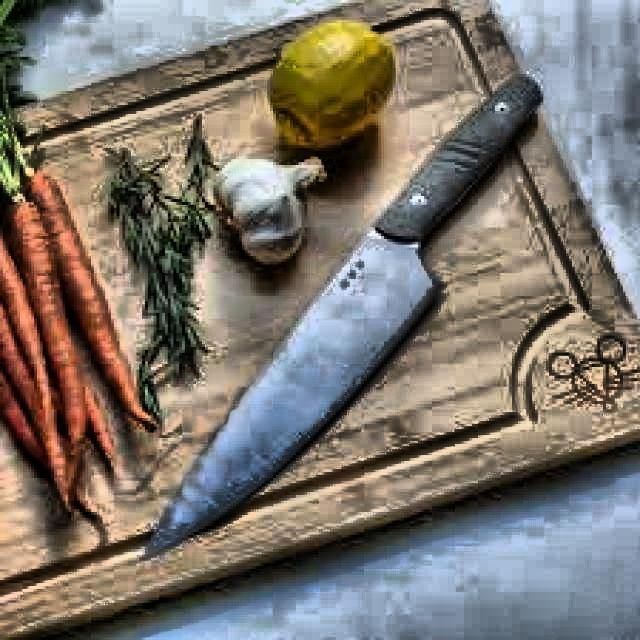knife: (128, 70, 548, 574)
